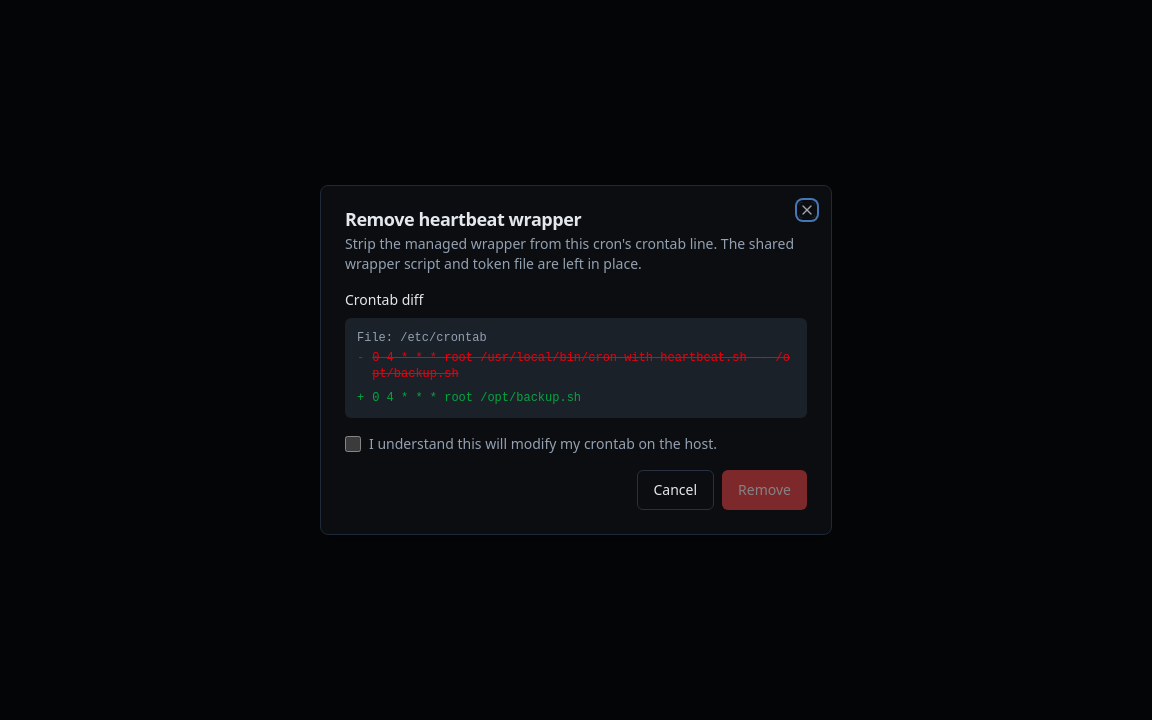
it: RemoveHeartbeatModal › Remove button is enabled after checking the confirmation checkbox
Expected: the heading "Crontab diff" is shown, [345,290,424,309]
Click the checkbox at (353, 444), box [345,436,361,452]
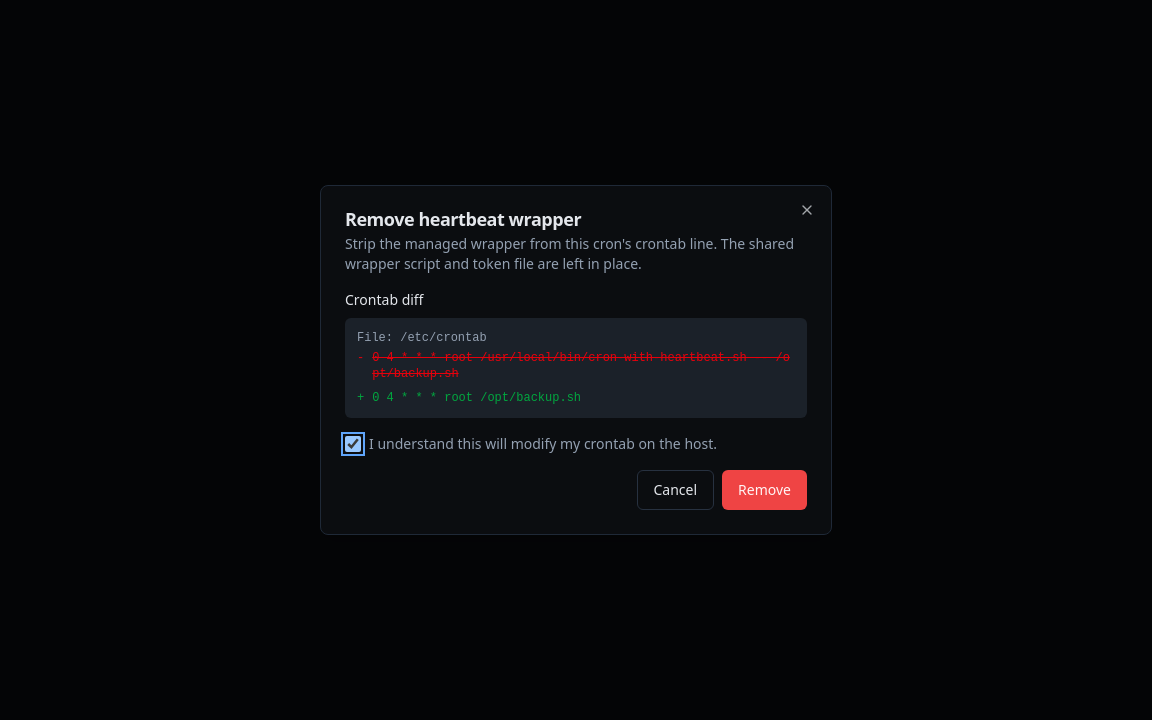
Expected: the button "Remove" is enabled, [722,470,807,510]
